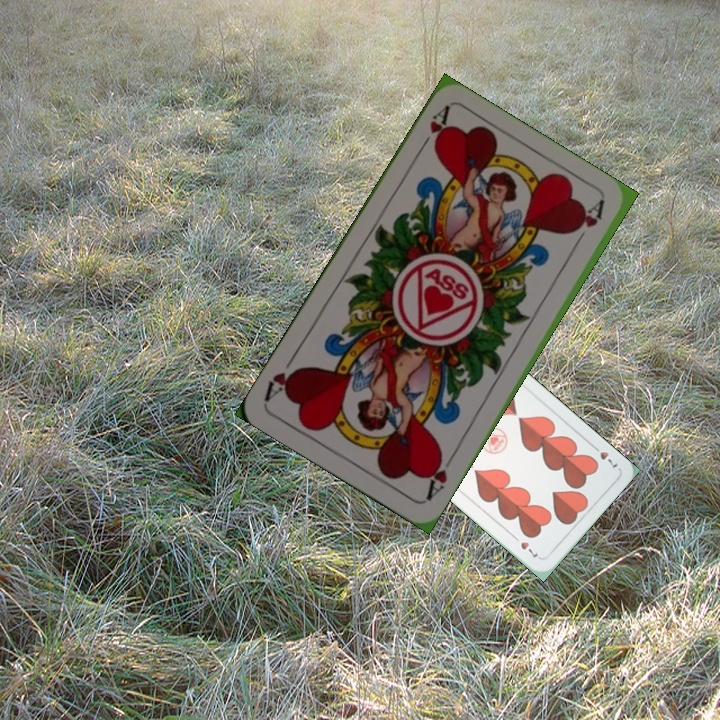H7: (587, 440, 621, 470)
HA: (413, 103, 452, 157), (422, 449, 458, 503)
